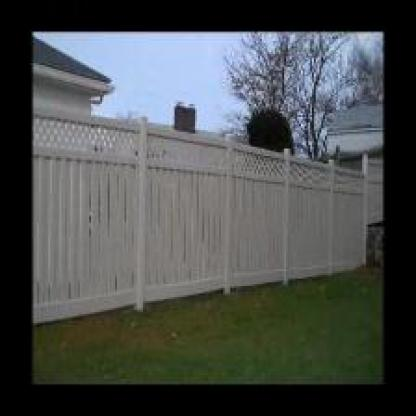other: (92, 102, 117, 147)
